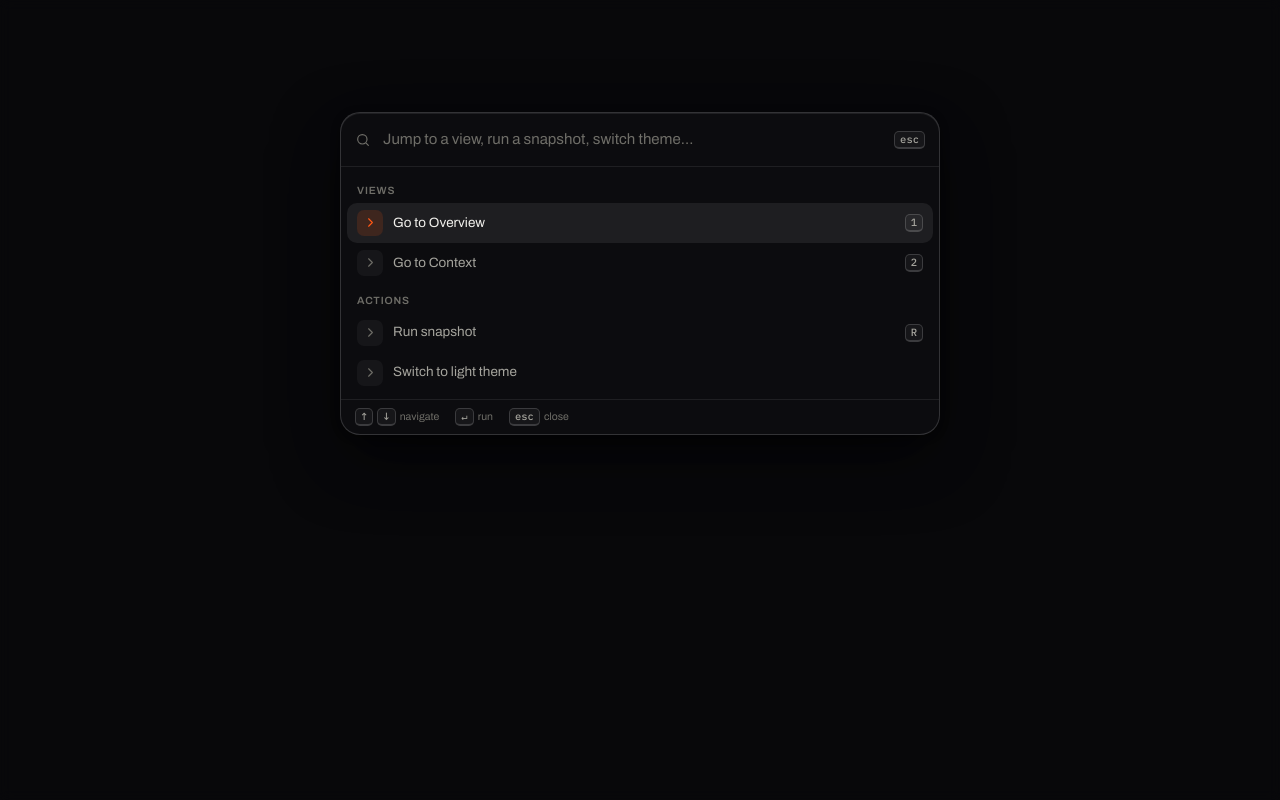
CommandPalette › fuzzy-filters by label and hidden keywords, hiding group headers
Type "record" into the field named "Search commands".
click(633, 140); type("record")  # box [381, 127, 884, 152]
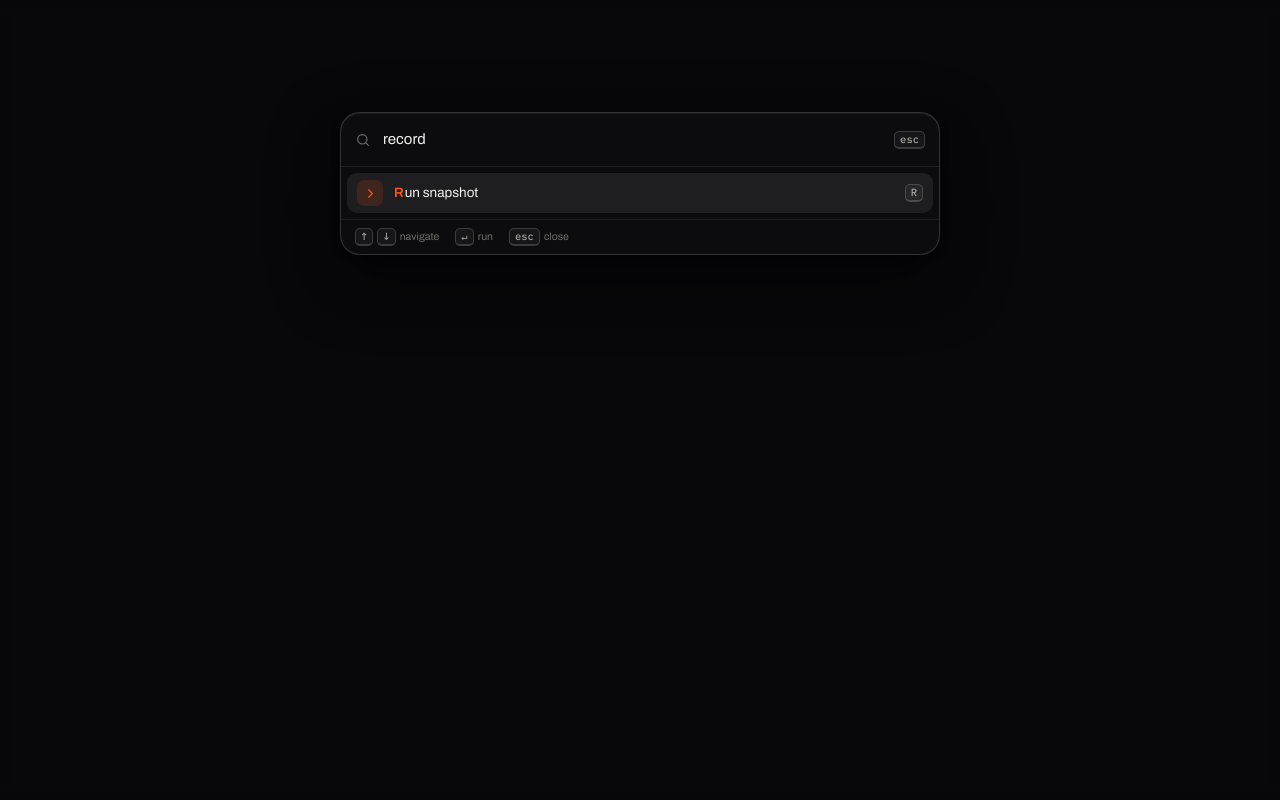
Expected: the option shows "Run snapshot", [347, 173, 933, 213]
Result: the number of options is 1 at [347, 173, 933, 213]
Result: the list item "Actions" is gone
